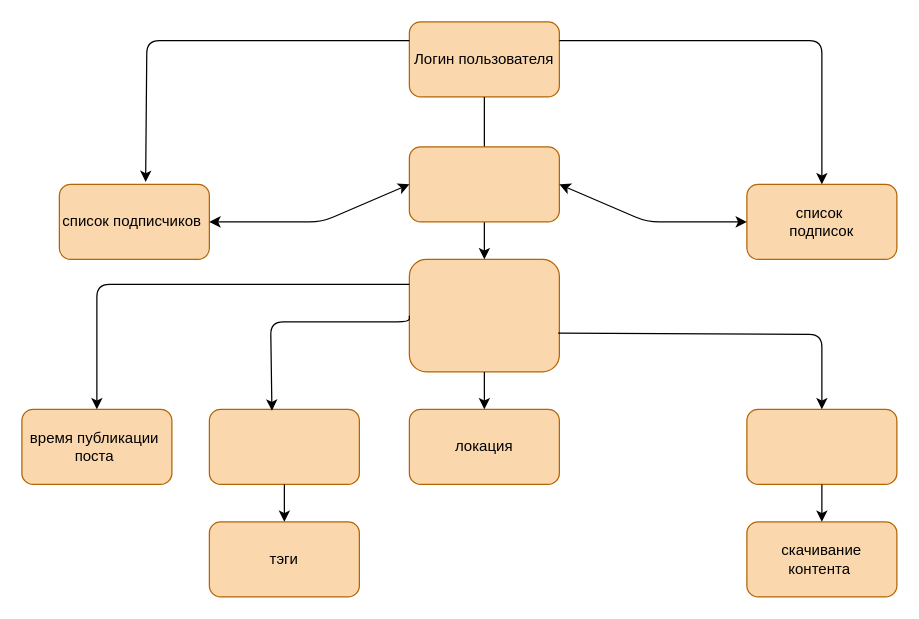
This 919x619 diagram has some shape labels left out. Here are the shapes that lost their labels. From the top down, the centre of each, then its label:
At point (483, 184): "собрать датасет".
At point (483, 315): "функция сбора ссылок на посты".
At point (283, 446): "комментарии".
At point (821, 446): "формат публикации".
